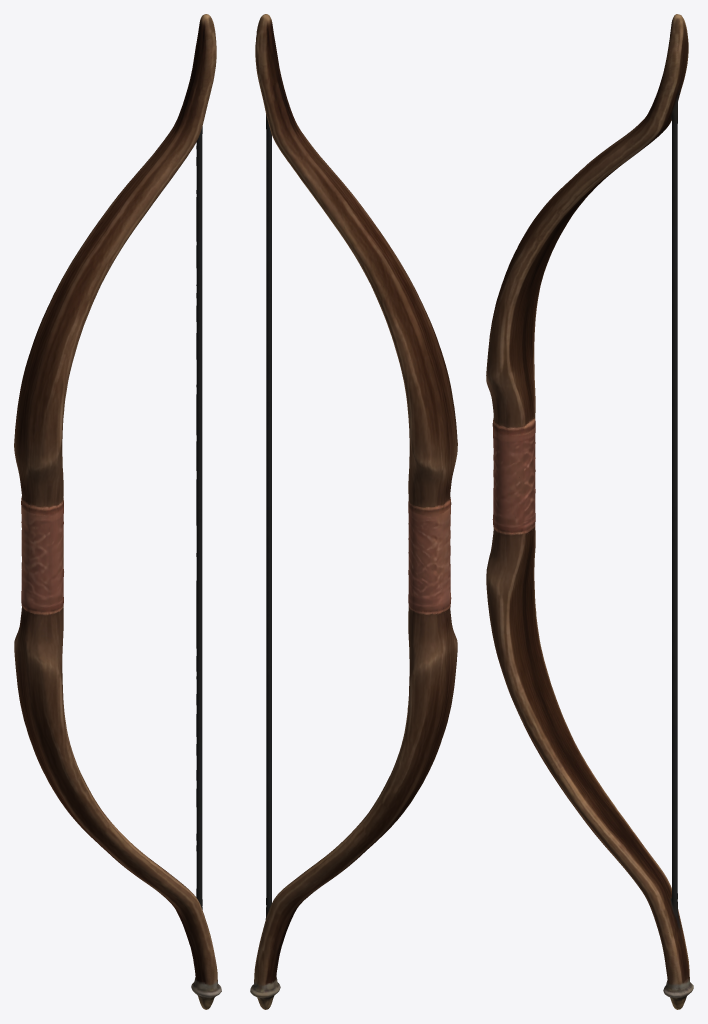
Rendered from bow.glb.
3 renders of one model, left to right at view 1: azimuth 30°, elevation 25°; view 2: azimuth 150°, elevation 25°; view 3: azimuth 330°, elevation 25°, orthographic.
Parts seen in each view (by area): view 1: world; view 2: world; view 3: world.
Part boxes in pixels (x1,y1,x2,y2): world: (14,14,221,1009); world: (250,14,457,1009); world: (486,14,693,1009).
Bounding box in the file's own units: 0.2081 × 1 × 0.059.
1 material, 1 textured.
